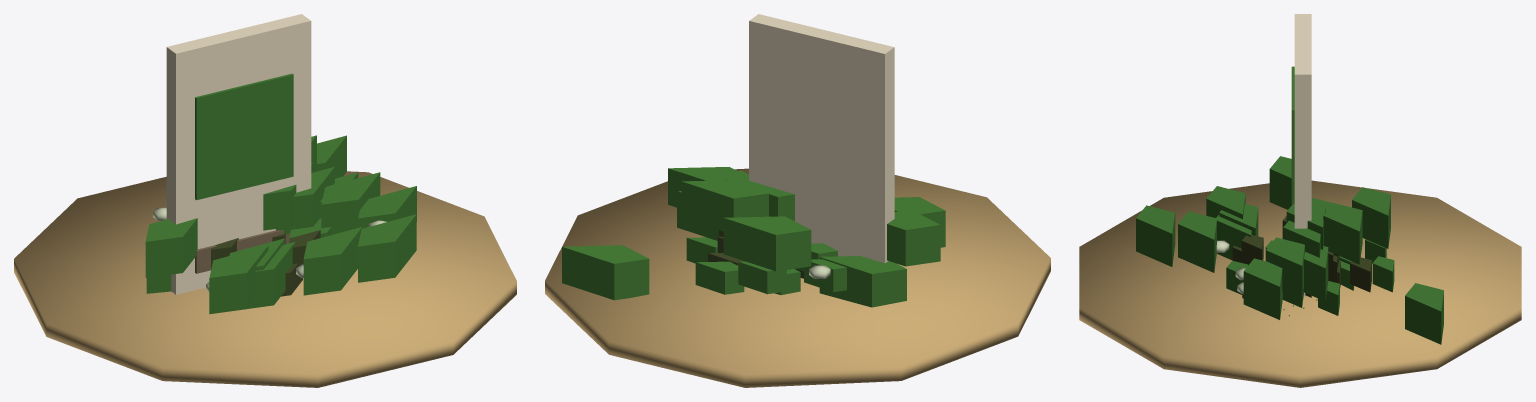
Rendered from Crop_TeaLeaf.fbx.
3 renders of one model, left to right at view 1: azimuth 30°, elevation 25°; view 2: azimuth 150°, elevation 25°; view 3: azimuth 270°, elevation 25°, orthographic. The views are drawn at different scales.
Parts seen in each view (by area): view 1: Crop_TeaLeaf__Stack, Crop_TeaLeaf__Seed, Crop_TeaLeaf__Rotten; view 2: Crop_TeaLeaf__Stack, Crop_TeaLeaf__Seed, Crop_TeaLeaf, Crop_TeaLeaf__Rotten; view 3: Crop_TeaLeaf__Stack, Crop_TeaLeaf__Seed, Crop_TeaLeaf, Crop_TeaLeaf__Rotten.
Boxes of the visible parts, x1,y1,x2,y2 form: Crop_TeaLeaf__Stack: [14, 135, 516, 387]; Crop_TeaLeaf__Seed: [166, 14, 311, 294]; Crop_TeaLeaf__Rotten: [153, 207, 386, 296]; Crop_TeaLeaf__Stack: [545, 167, 1050, 387]; Crop_TeaLeaf__Seed: [749, 14, 894, 263]; Crop_TeaLeaf: [686, 237, 846, 294]; Crop_TeaLeaf__Rotten: [708, 230, 830, 278]; Crop_TeaLeaf__Stack: [1079, 156, 1521, 387]; Crop_TeaLeaf__Seed: [1283, 14, 1317, 316]; Crop_TeaLeaf: [1226, 239, 1394, 315]; Crop_TeaLeaf__Rotten: [1216, 216, 1371, 298].
Size of the model in its own units: 0.162 by 0.09 by 0.1541.
